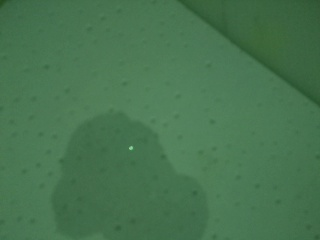Water_detected: (80, 134, 182, 234)
